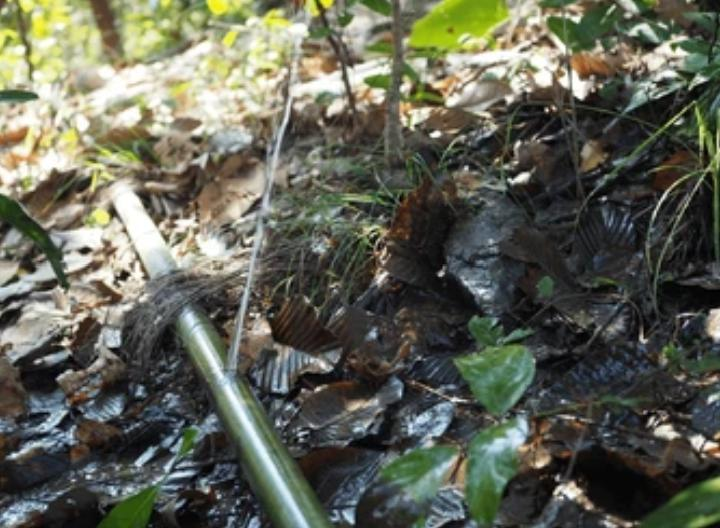pipe burst: (224, 12, 312, 376)
